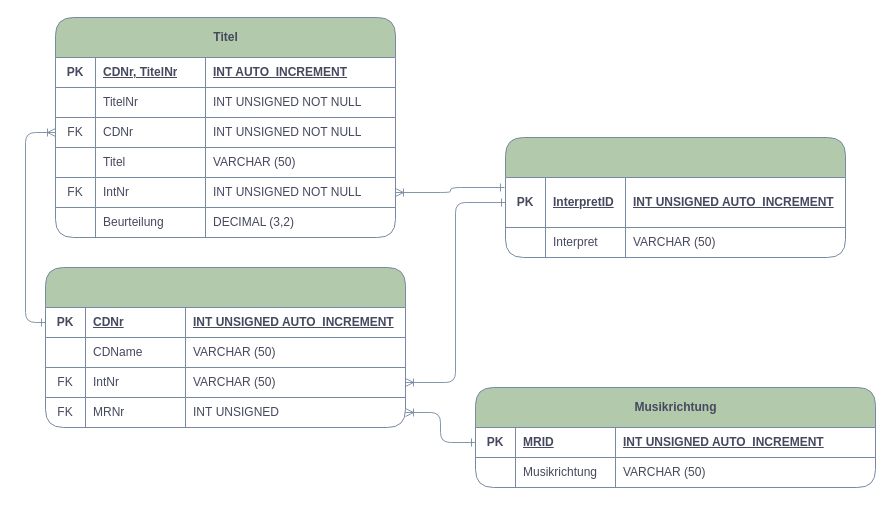
The diagram is 893 pixels wide and 505 high, and some of its shapes have lost their labels. Here are the shapes that lost their labels. From the top down, the box of each, then its label:
(504, 136, 846, 258): Interpreten
(44, 266, 406, 428): CD
